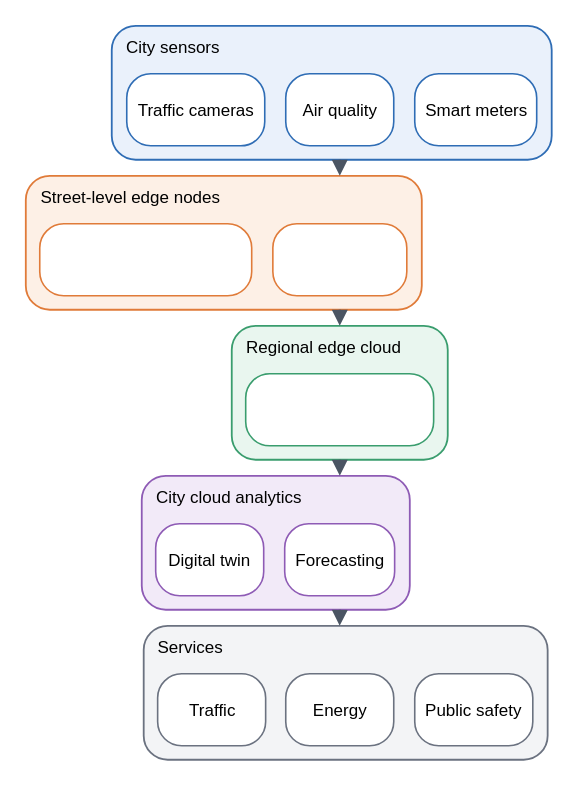
This 579x788 diagram has some shape labels left out. Each missing label, with the centre of its shape:
"Federated aggregation" goes at point (339, 409).
"Local analytics" goes at point (339, 259).
"On-device anonymisation" goes at point (145, 259).
